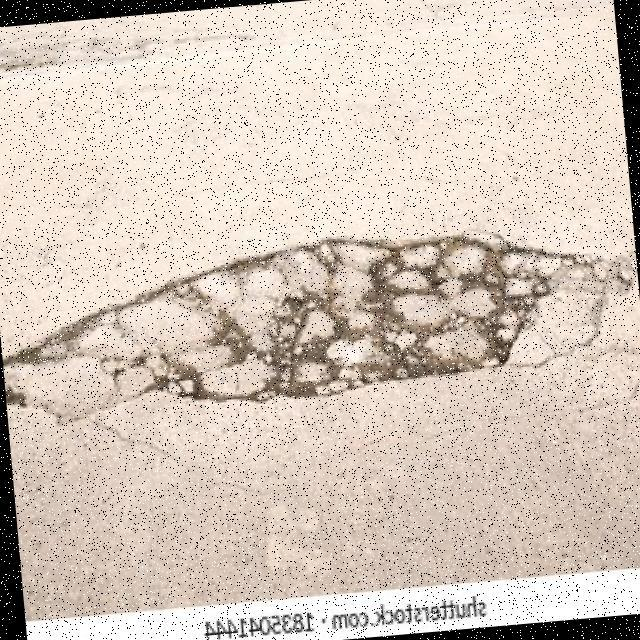Pothole: (2, 230, 638, 426)
